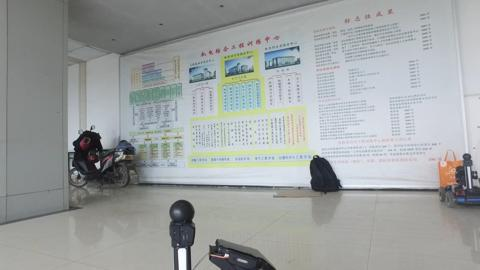bag: (308, 152, 343, 195), (436, 147, 466, 188)
chariot: (438, 151, 479, 208)
